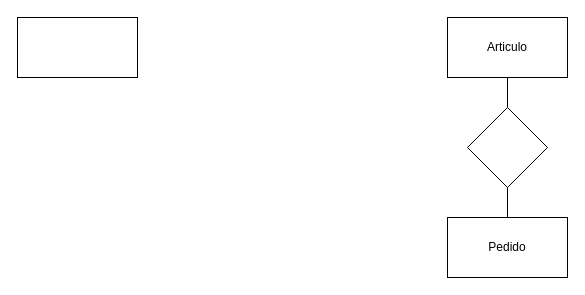
This 585x295 diagram has some shape labels left out. Each missing label, with the centre of its shape:
"Cliente" belongs at pixel 77 47.
"Tiene" belongs at pixel 507 147.
